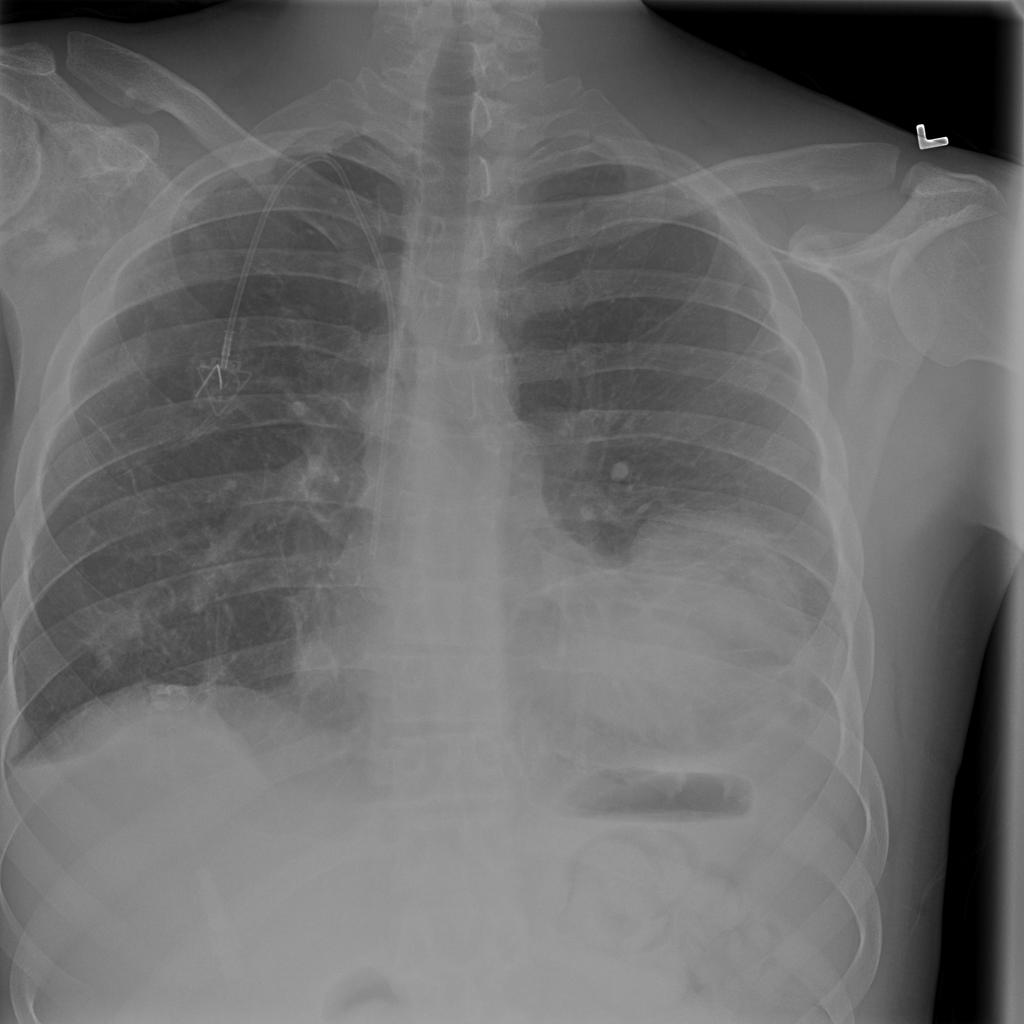nodule: (523, 500, 827, 777), (284, 619, 356, 708), (601, 454, 642, 489)
